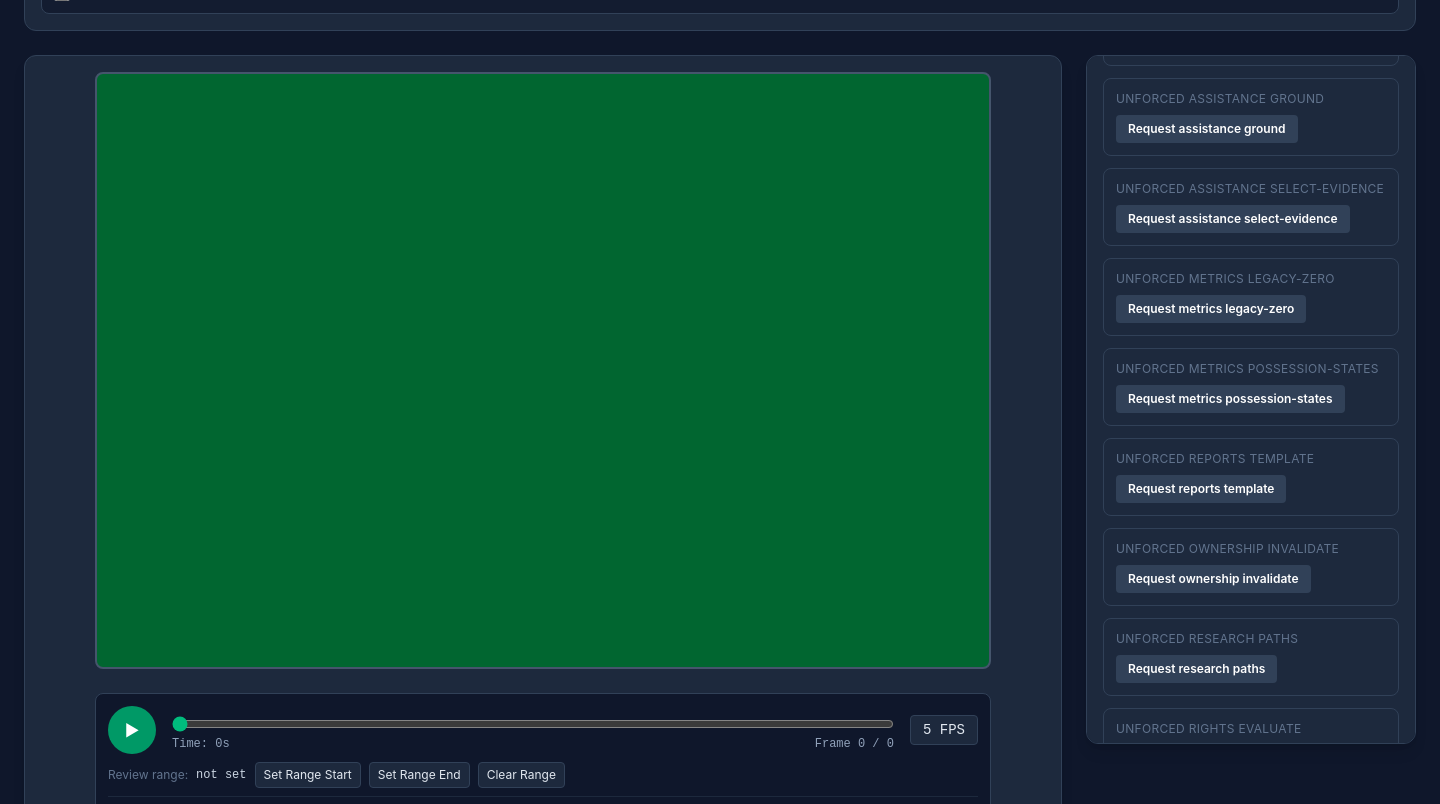
Scenario: App leftover HTTP surfaces › posts possession-states, reports template, and ownership invalidate without leftover invented possession, client metrics, or report change
(page scrolled)
Click the button "Request metrics possession-states": (1230,399) 1116,385 -> 1344,413
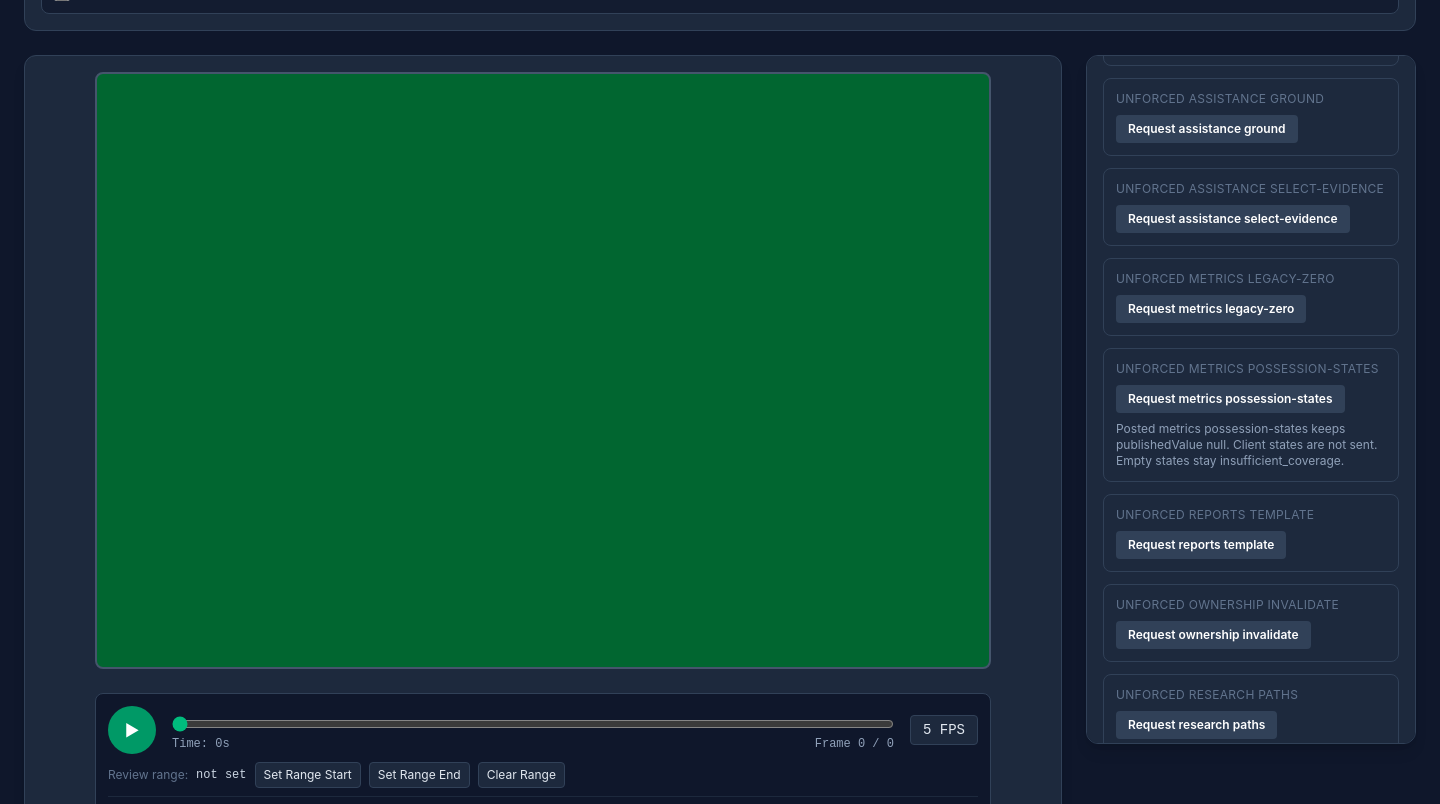
Click the button "Request reports template": (1201,545) 1116,531 -> 1286,559
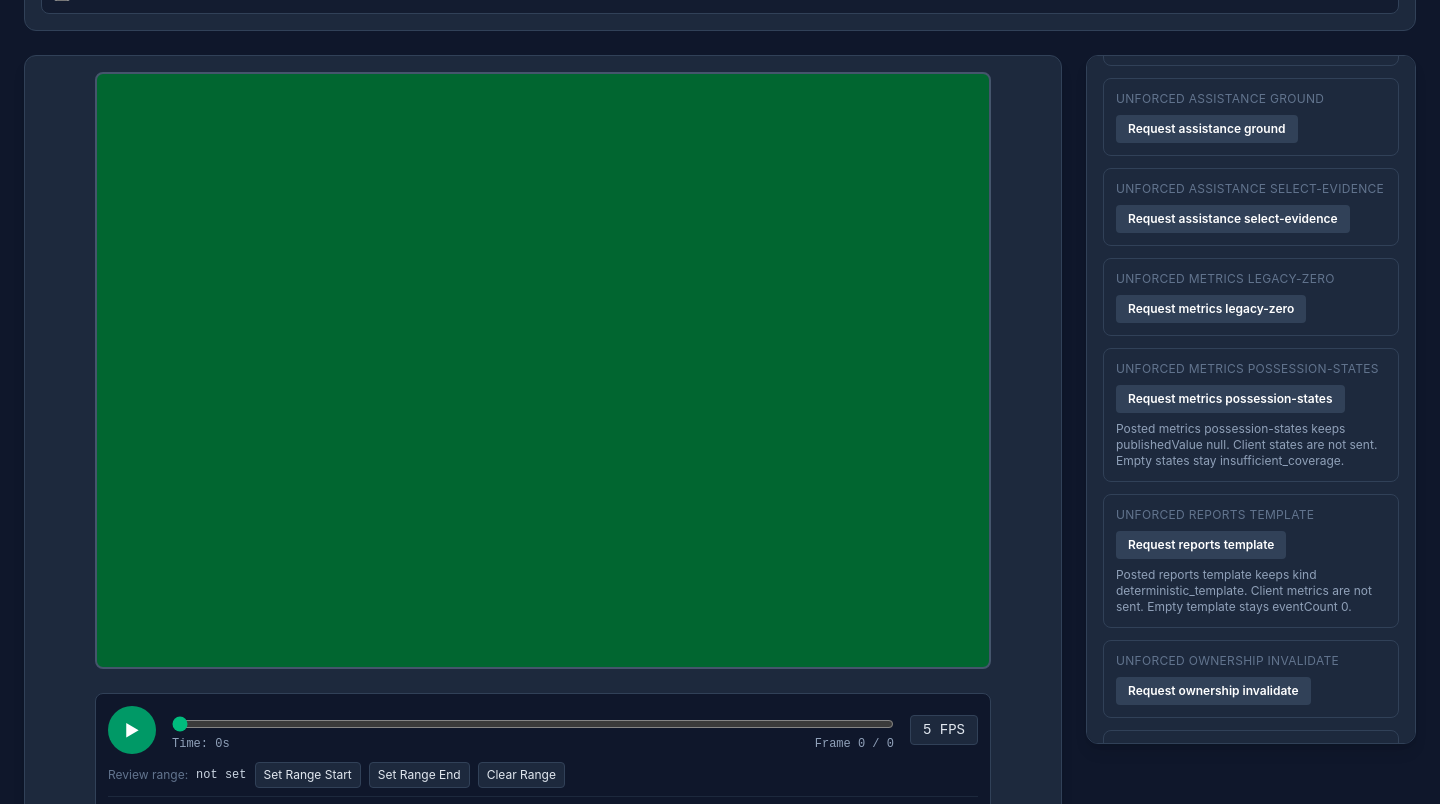
Click the button "Request ownership invalidate": (1213,691) 1116,677 -> 1310,705
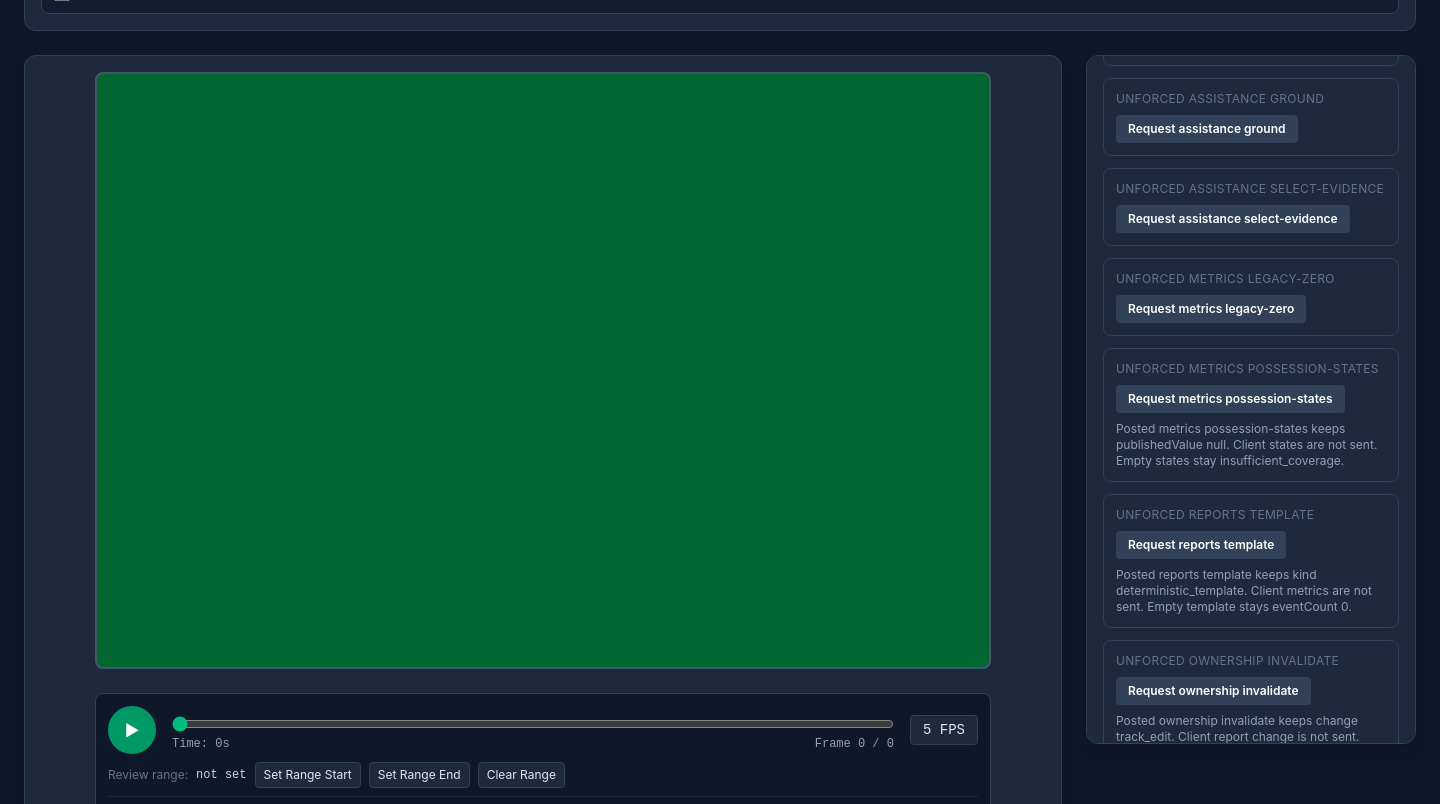
Now the text "empty states stay insufficient_coverage" is shown, box 1116,421 -> 1377,468
Now the text "empty template stays eventCount 0" is shown, box 1116,567 -> 1372,614
Now the text "track edit still rebuilds ownership" is shown, box 1116,713 -> 1360,744
